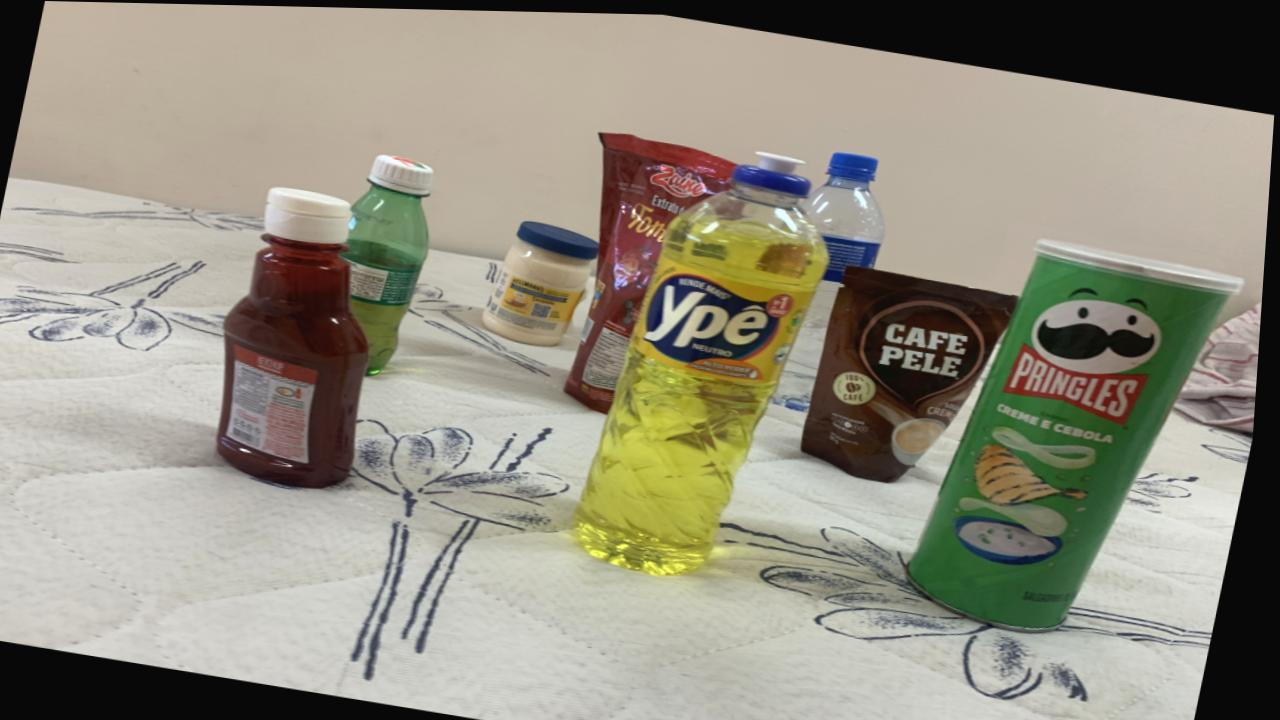Coffee-Pantry_Items: (807, 262, 1021, 477)
Detergent-Cleanup_Items: (582, 150, 831, 570)
Guarana-Drinks: (347, 152, 435, 372)
Ketchup-Pantry_Items: (222, 186, 373, 486)
Mayonnaise-Pantry_Items: (485, 218, 601, 343)
Pringles-Snacks: (916, 235, 1245, 626)
Tomato_Sauce-Pantry_Items: (568, 129, 736, 409)
Water_Bottle-Drinks: (776, 148, 888, 407)
